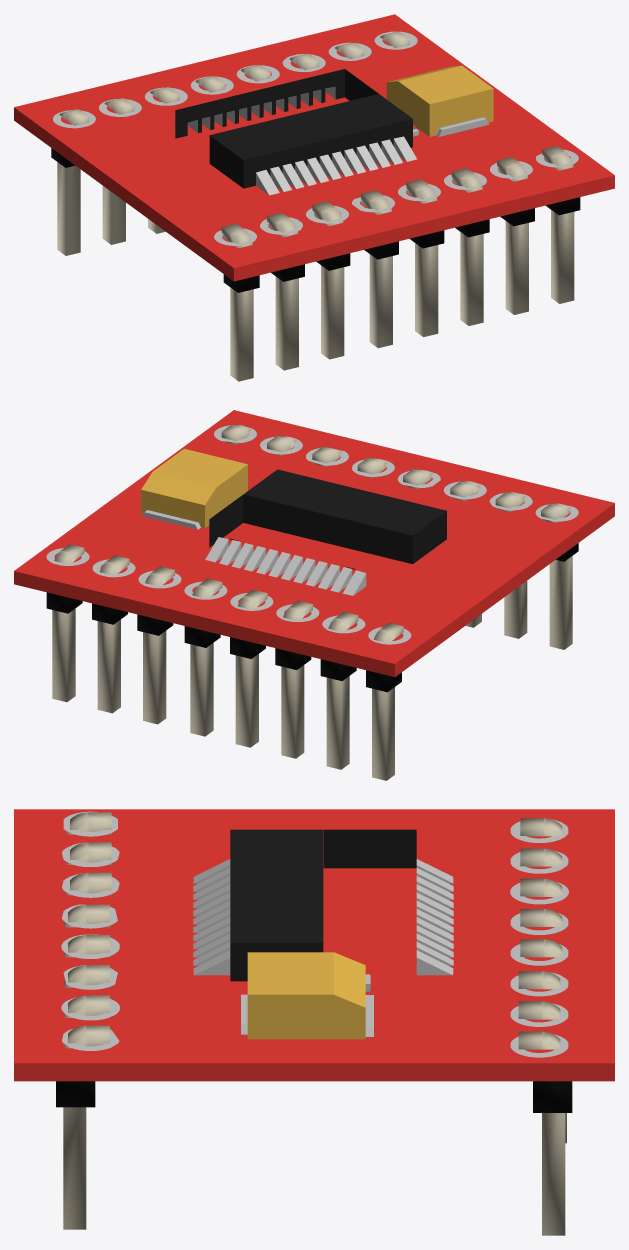
The picture shows the model from 3 angles, top to bottom: view 1: azimuth 30°, elevation 25°; view 2: azimuth 150°, elevation 25°; view 3: azimuth 270°, elevation 25°; orthographic projection. The views are drawn at different scales.
Parts seen in each view (by area): view 1: TB66012FNG_REDPCB_0, TB66012FNG_Metallic_0, TB66012FNG_icEpoxy_0, TB66012FNG_silverContacts_0, TB66012FNG_yellowEpoxy_0, TB66012FNG_BlackPlastic_0; view 2: TB66012FNG_REDPCB_0, TB66012FNG_Metallic_0, TB66012FNG_icEpoxy_0, TB66012FNG_silverContacts_0, TB66012FNG_yellowEpoxy_0, TB66012FNG_BlackPlastic_0; view 3: TB66012FNG_REDPCB_0, TB66012FNG_Metallic_0, TB66012FNG_silverContacts_0, TB66012FNG_icEpoxy_0, TB66012FNG_yellowEpoxy_0, TB66012FNG_BlackPlastic_0.
Boxes of the visible parts, x1=… form: TB66012FNG_REDPCB_0: x1=14, y1=14, x2=614, y2=281; TB66012FNG_Metallic_0: x1=57, y1=31, x2=574, y2=381; TB66012FNG_icEpoxy_0: x1=175, y1=69, x2=412, y2=188; TB66012FNG_silverContacts_0: x1=53, y1=31, x2=578, y2=245; TB66012FNG_yellowEpoxy_0: x1=386, y1=65, x2=493, y2=136; TB66012FNG_BlackPlastic_0: x1=51, y1=148, x2=580, y2=292; TB66012FNG_REDPCB_0: x1=14, y1=410, x2=614, y2=677; TB66012FNG_Metallic_0: x1=52, y1=424, x2=572, y2=780; TB66012FNG_icEpoxy_0: x1=209, y1=469, x2=446, y2=569; TB66012FNG_silverContacts_0: x1=46, y1=425, x2=578, y2=644; TB66012FNG_yellowEpoxy_0: x1=141, y1=448, x2=247, y2=528; TB66012FNG_BlackPlastic_0: x1=46, y1=543, x2=578, y2=692; TB66012FNG_REDPCB_0: x1=14, y1=809, x2=614, y2=1081; TB66012FNG_Metallic_0: x1=63, y1=812, x2=566, y2=1235; TB66012FNG_silverContacts_0: x1=61, y1=811, x2=568, y2=1057; TB66012FNG_icEpoxy_0: x1=230, y1=829, x2=416, y2=981; TB66012FNG_yellowEpoxy_0: x1=247, y1=952, x2=365, y2=1039; TB66012FNG_BlackPlastic_0: x1=56, y1=1081, x2=572, y2=1112.
Size of the model in its own units: 0.0202 by 0.00856 by 0.0202.
